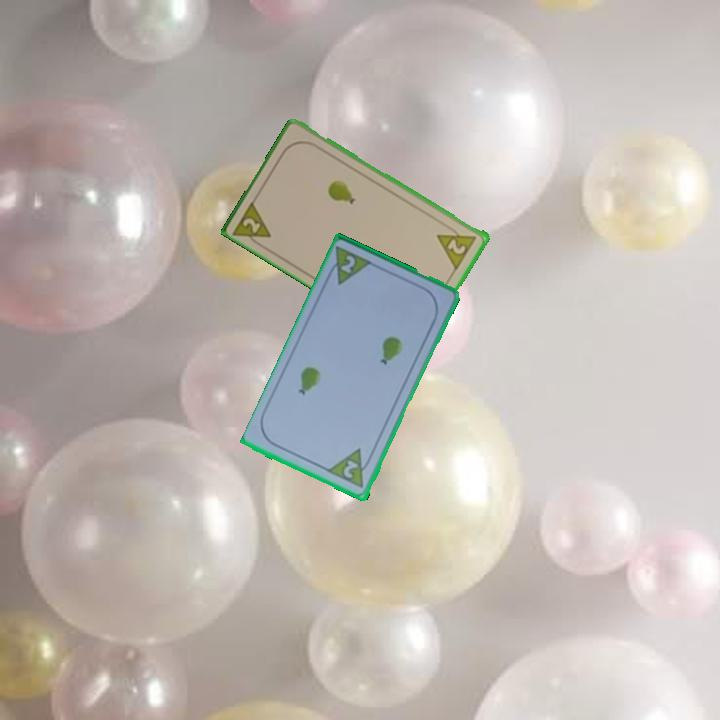2p: (230, 196, 275, 251), (323, 243, 376, 288), (434, 220, 480, 271), (339, 457, 361, 482)
